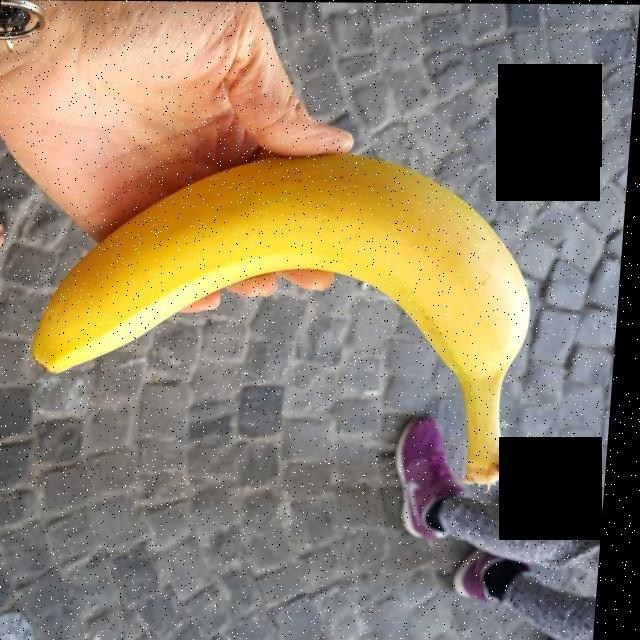banana: (32, 150, 530, 488)
